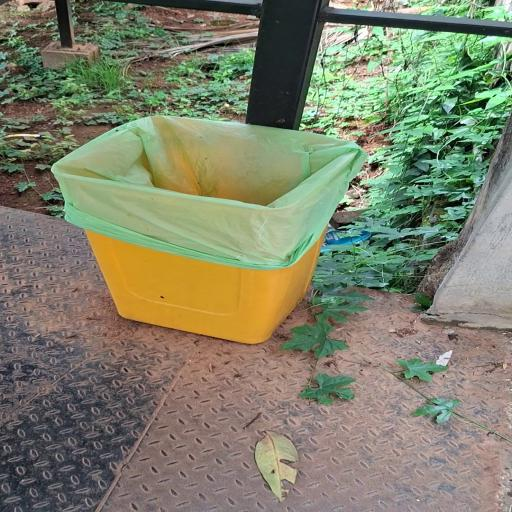Nilkamal-dustbin-detection: (53, 116, 365, 343)
